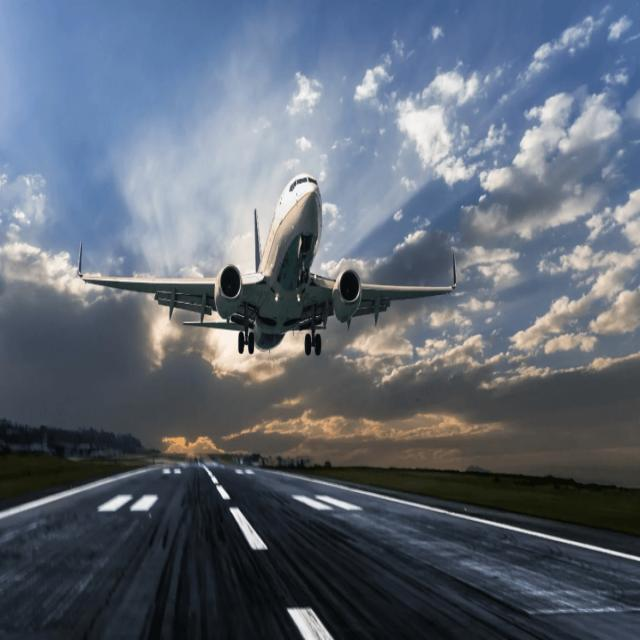plain: (65, 158, 445, 361)
